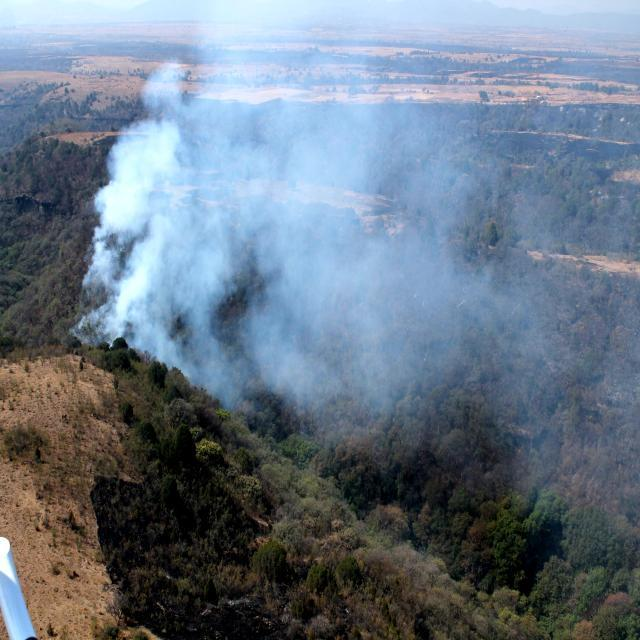Smoke: (82, 24, 578, 423)
